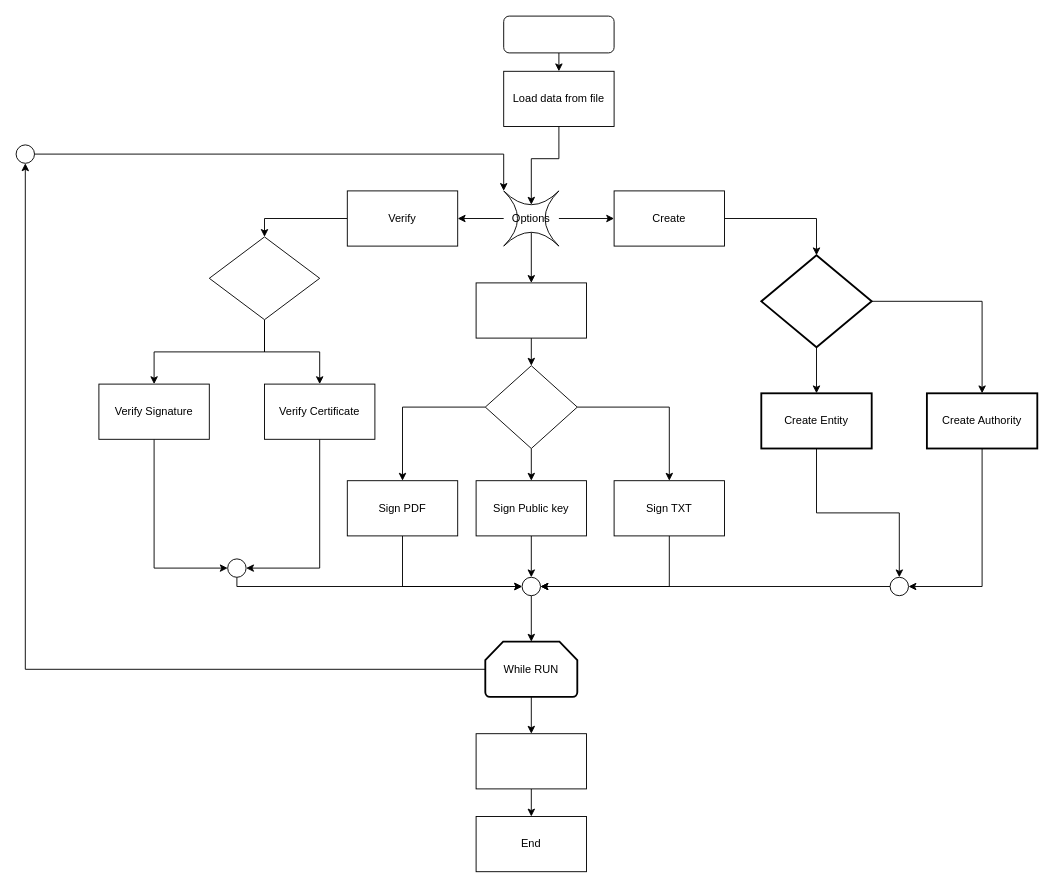
The diagram is 1054 pixels wide and 888 high, and some of its shapes have lost their labels. The centre of each missing label's shape, as x and y in pixels:
"Save into file" goes at [530,761].
"Sign" goes at [530,310].
"Start" goes at [558,34].
"What to create?" goes at [816,301].
"What to sign?" goes at [530,406].
"What to verify?" goes at [264,278].
